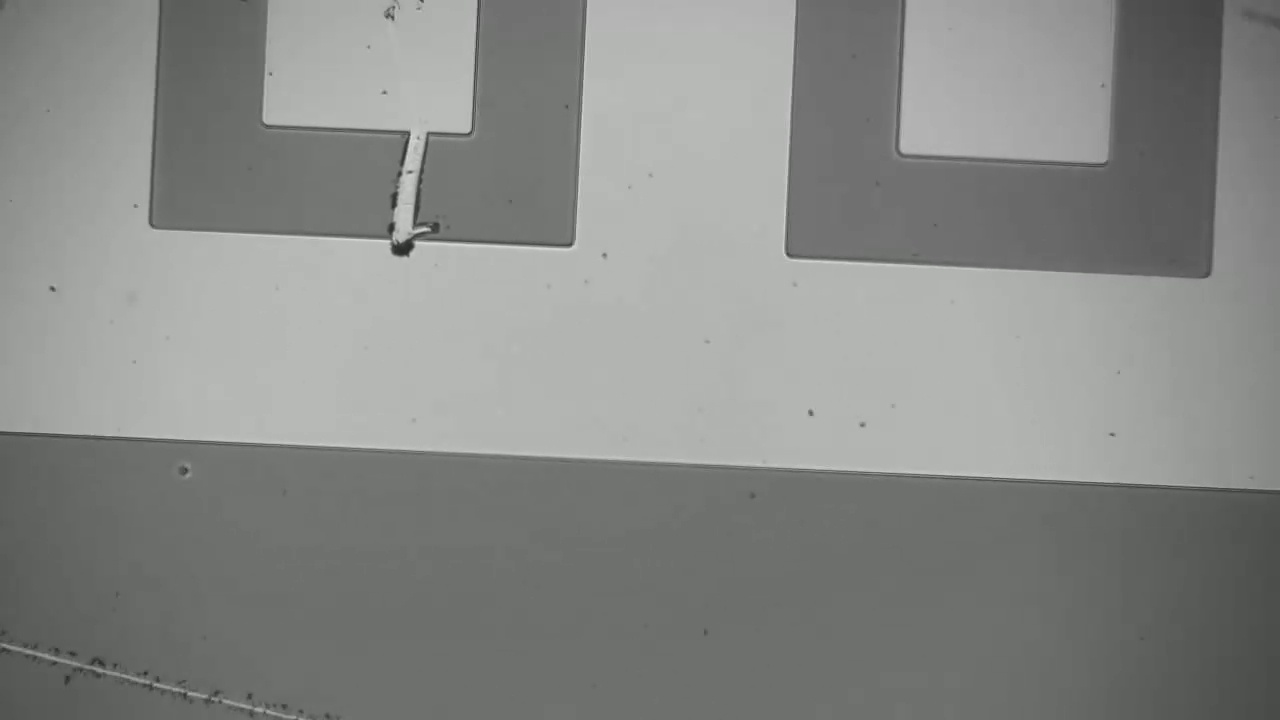Short_circuit: (0, 621, 328, 717), (371, 102, 446, 271)
